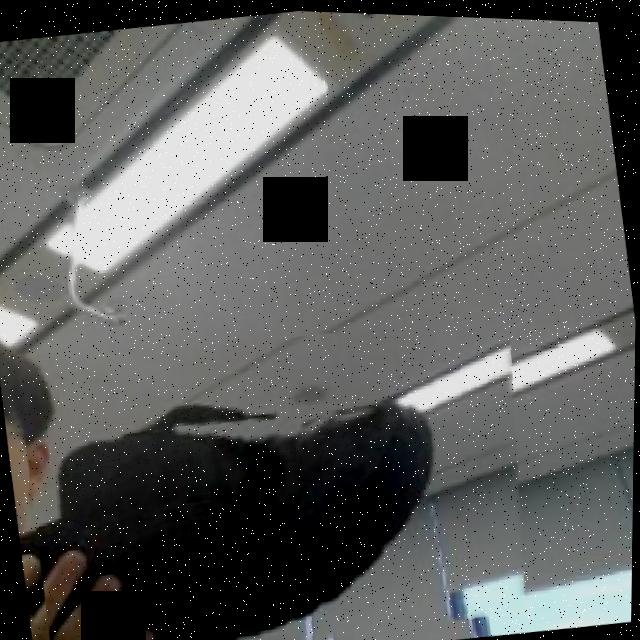shoe: (14, 297, 555, 640)
